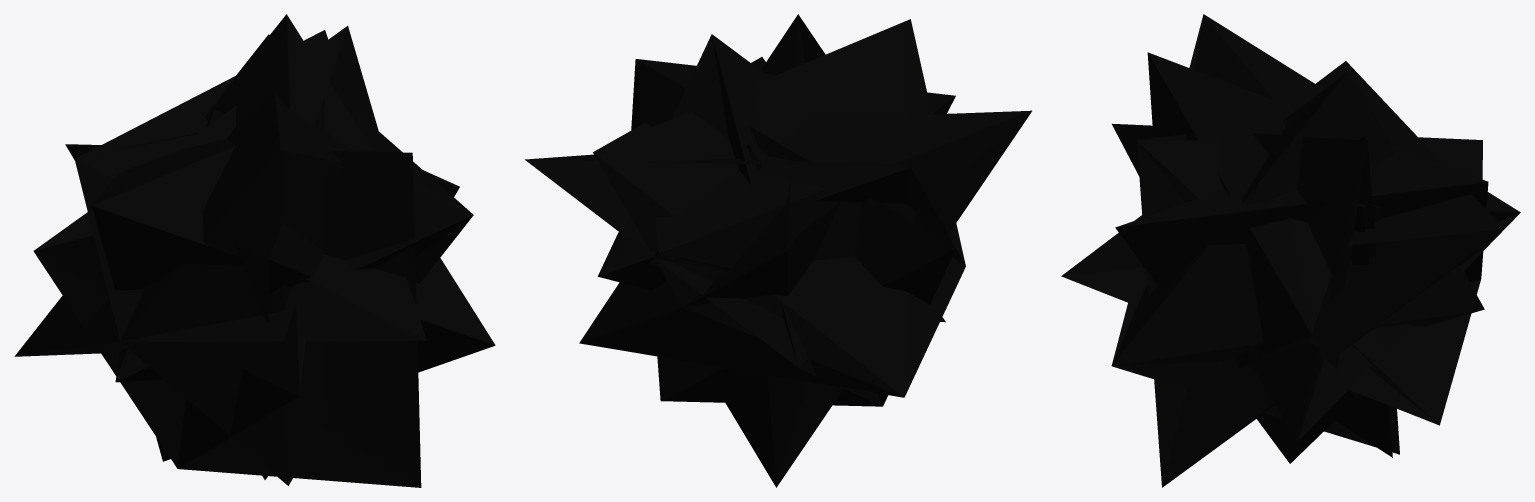
The model's file is Dust.glb.
The picture shows the model from 3 angles, left to right: view 1: azimuth 30°, elevation 25°; view 2: azimuth 150°, elevation 25°; view 3: azimuth 270°, elevation 25°; orthographic projection. The views are drawn at different scales.
Visible parts, largest first — view 1: Dust; view 2: Dust; view 3: Dust.
Boxes of the visible parts, box(x1,y1,x2,y2) form: Dust: box(14, 14, 495, 487); Dust: box(525, 14, 1031, 487); Dust: box(1061, 14, 1520, 487).
Size of the model in its own units: 0.5012 by 0.5012 by 0.4879.
1 material, 1 textured.
